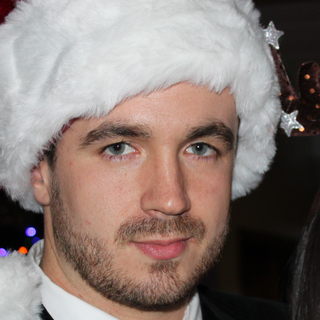eye: (96, 138, 144, 164), (182, 139, 221, 162)
